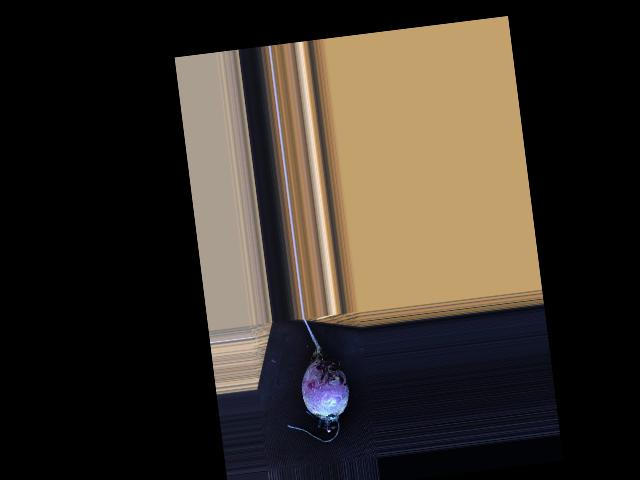beet: (274, 313, 355, 446)
